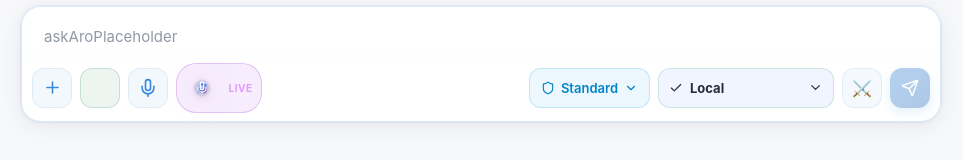
Test: Composer @ mentions (F4.2, shipped code) › navigates with ArrowDown (cyclic wrap) and confirms with Enter
This screenshot has width=963, height=160.
Type "@" into the text box at (481, 36), box [38, 22, 924, 50]
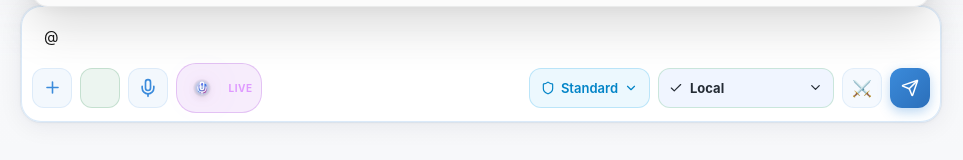
Press @ in the text box, box [38, 22, 924, 50]
# Wrap: ArrowUp from first goes to last.
Press ArrowUp in the text box, box [38, 22, 924, 50]
Press ArrowDown in the text box, box [38, 22, 924, 50]
Press Enter in the text box, box [38, 22, 924, 50]
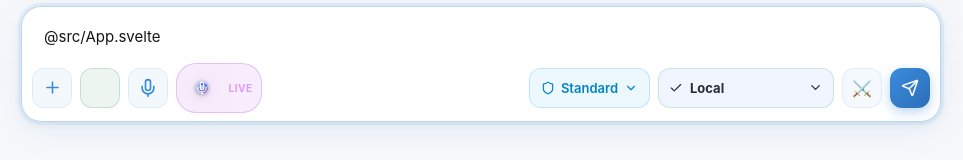
expect the text box holds "@src/App.svelte ": met, box [38, 22, 924, 50]
